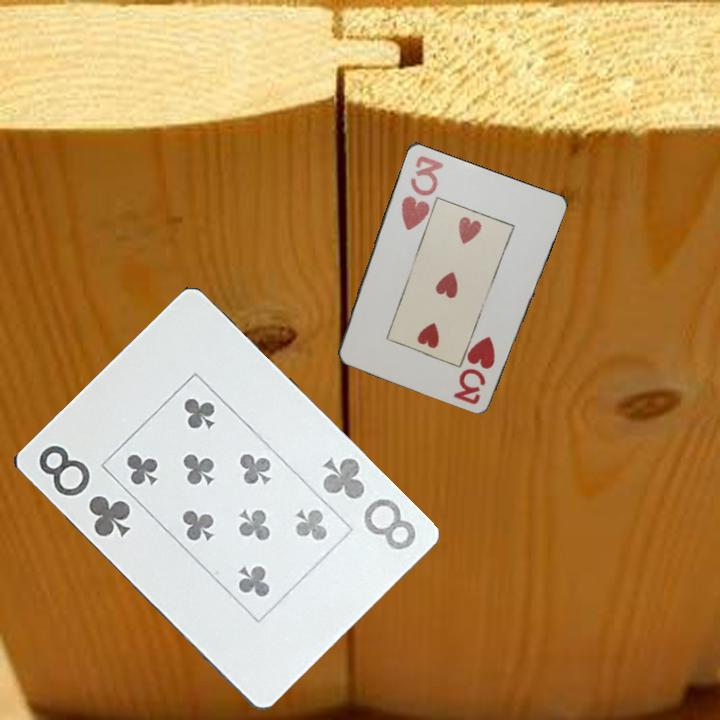3h: (397, 151, 447, 234), (452, 332, 498, 407)
8c: (318, 454, 419, 553), (34, 441, 133, 541)
